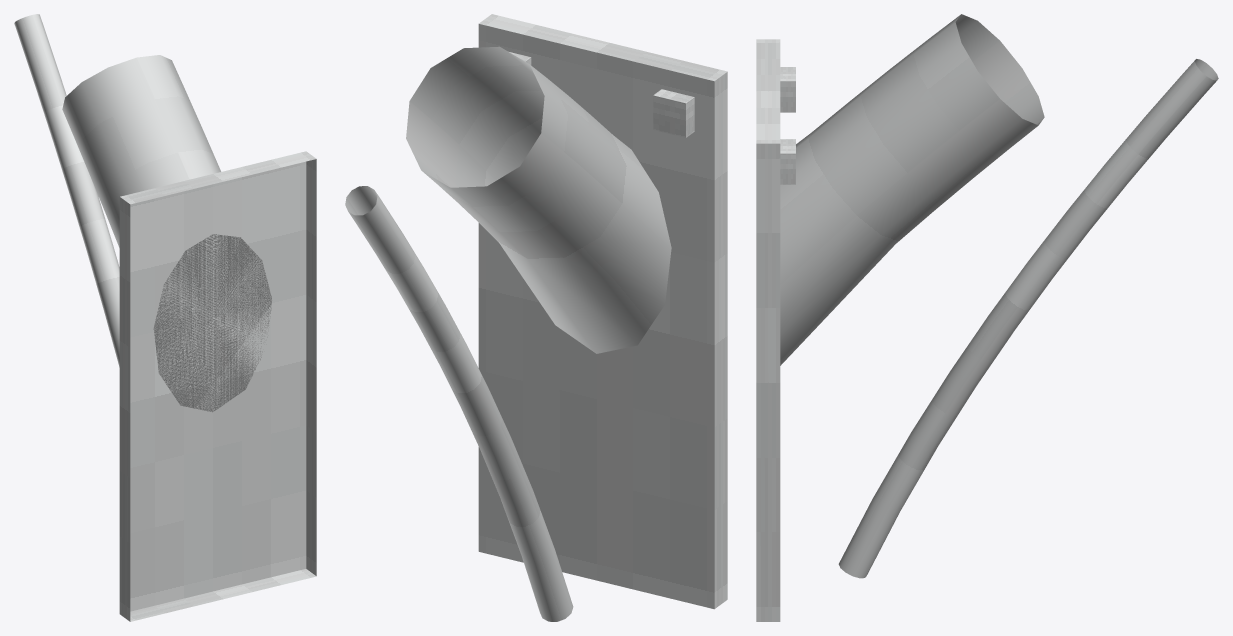
Rendered from luminairearm_laupsweep8ft_c0_wall.obj.
3 renders of one model, left to right at view 1: azimuth 30°, elevation 25°; view 2: azimuth 150°, elevation 25°; view 3: azimuth 270°, elevation 25°, orthographic. The views are drawn at different scales.
Visible parts, largest first — view 1: luminairearm_laupsweep8ft_c0_wall; view 2: luminairearm_laupsweep8ft_c0_wall; view 3: luminairearm_laupsweep8ft_c0_wall.
Part boxes in pixels (x1,y1,x2,y2): luminairearm_laupsweep8ft_c0_wall: (14,14,316,621); luminairearm_laupsweep8ft_c0_wall: (345,14,727,621); luminairearm_laupsweep8ft_c0_wall: (756,14,1218,621).
Size of the model in its own units: 0.4471 by 1.11 by 0.838.
